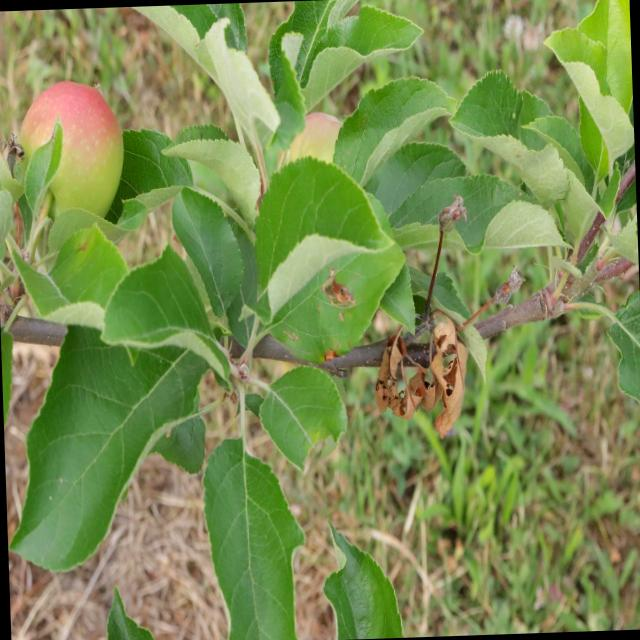-FireBlight-: (374, 320, 466, 436)
